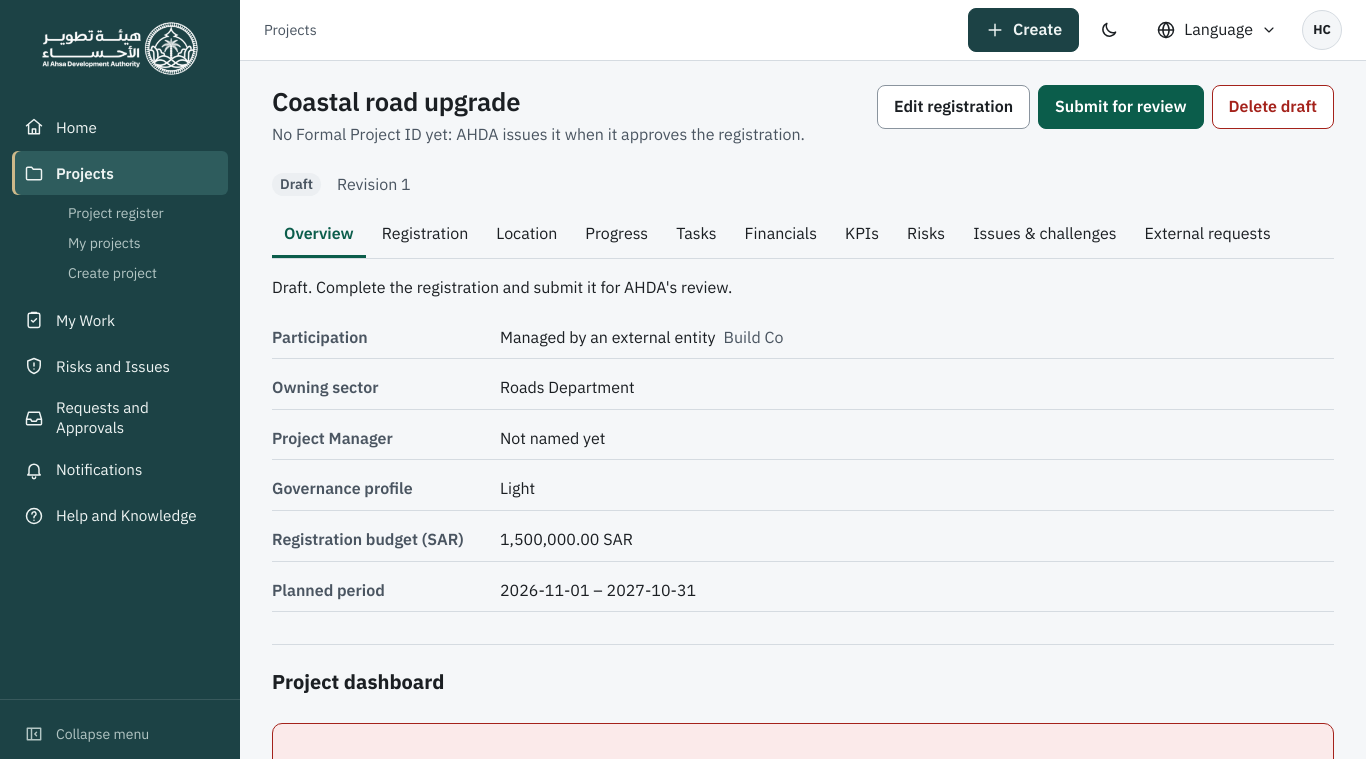
MOD-001 Delete Draft › a draft another record names is refused and stays
Click the button "Delete draft" at [1273, 107], box x1=1212 y1=85 x2=1334 y2=129
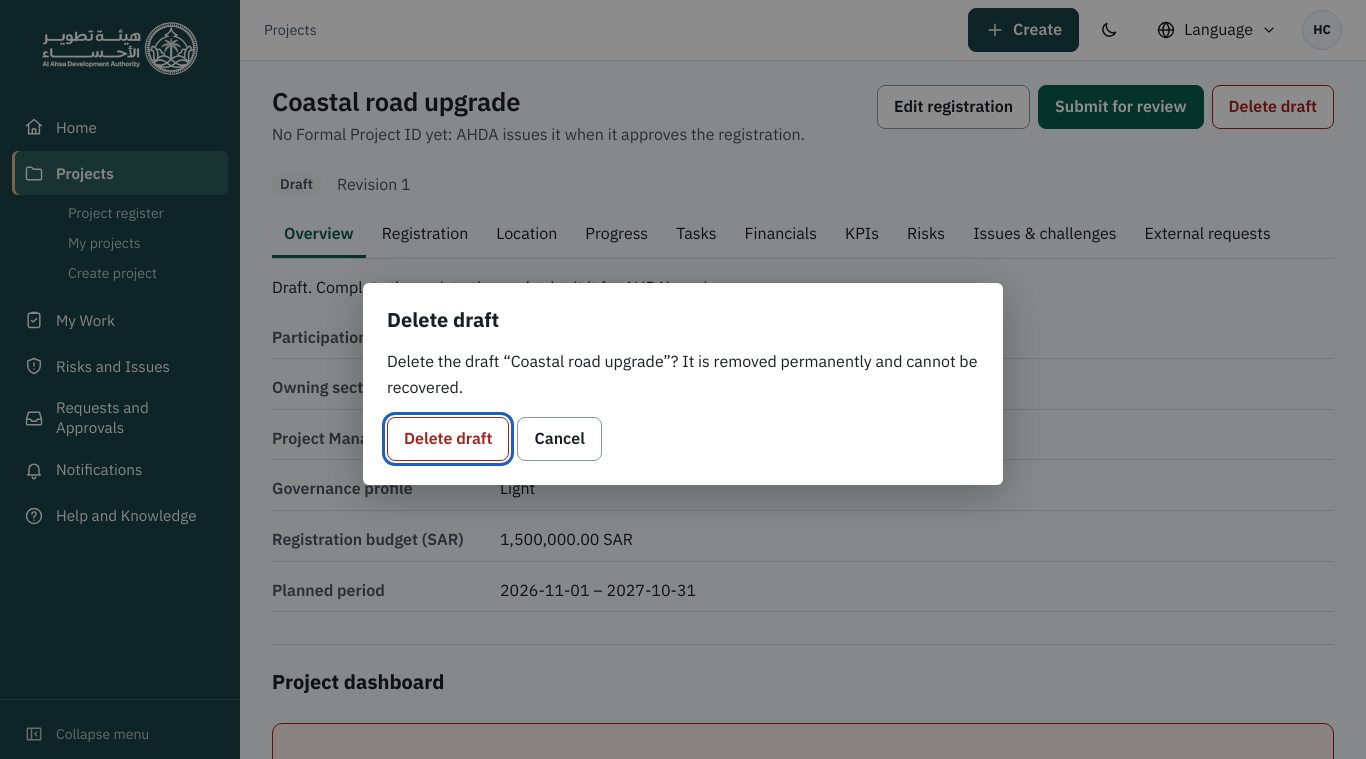
Click the button "Delete draft" at [448, 439], box x1=387 y1=417 x2=510 y2=461
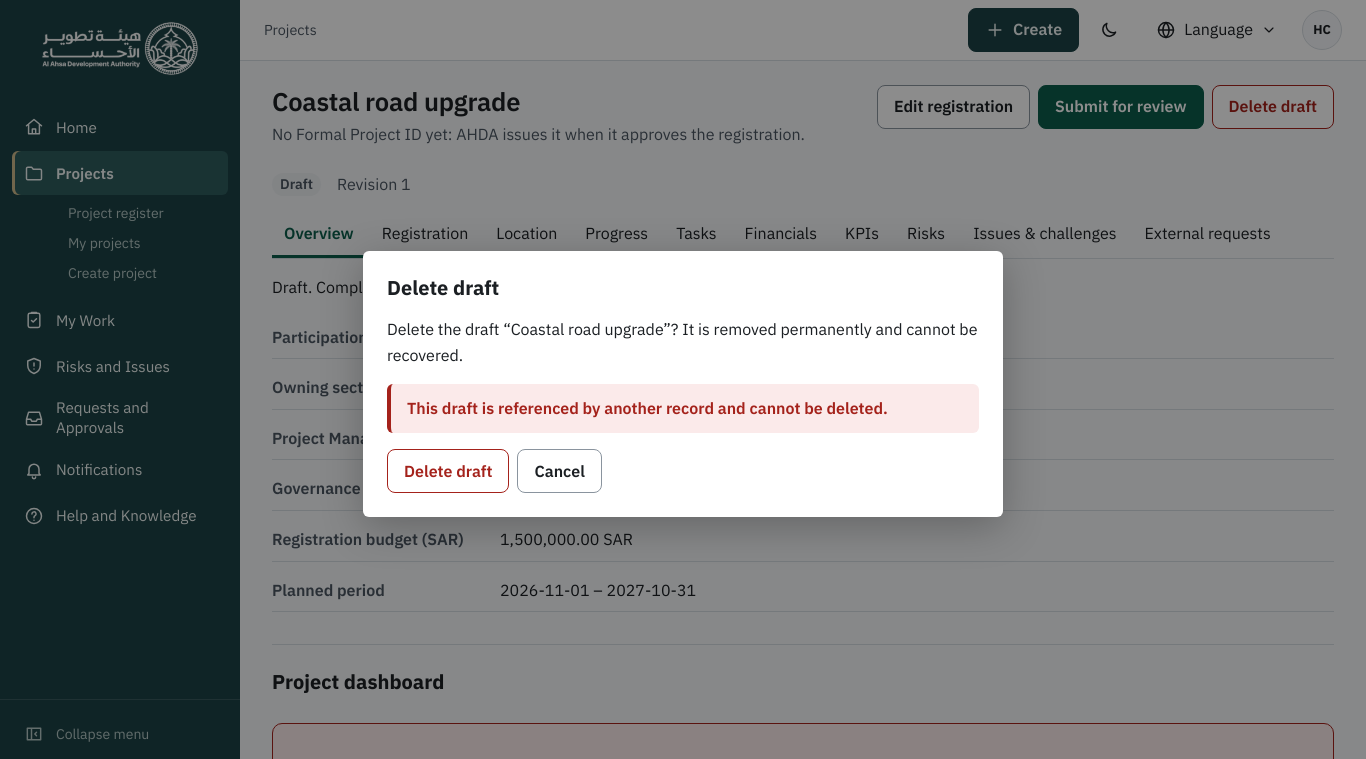
Check: the heading "Coastal road upgrade" is shown, box x1=272 y1=85 x2=520 y2=118
Check: the text "This draft is referenced by another record and cannot be deleted." is shown, box x1=387 y1=384 x2=979 y2=433
